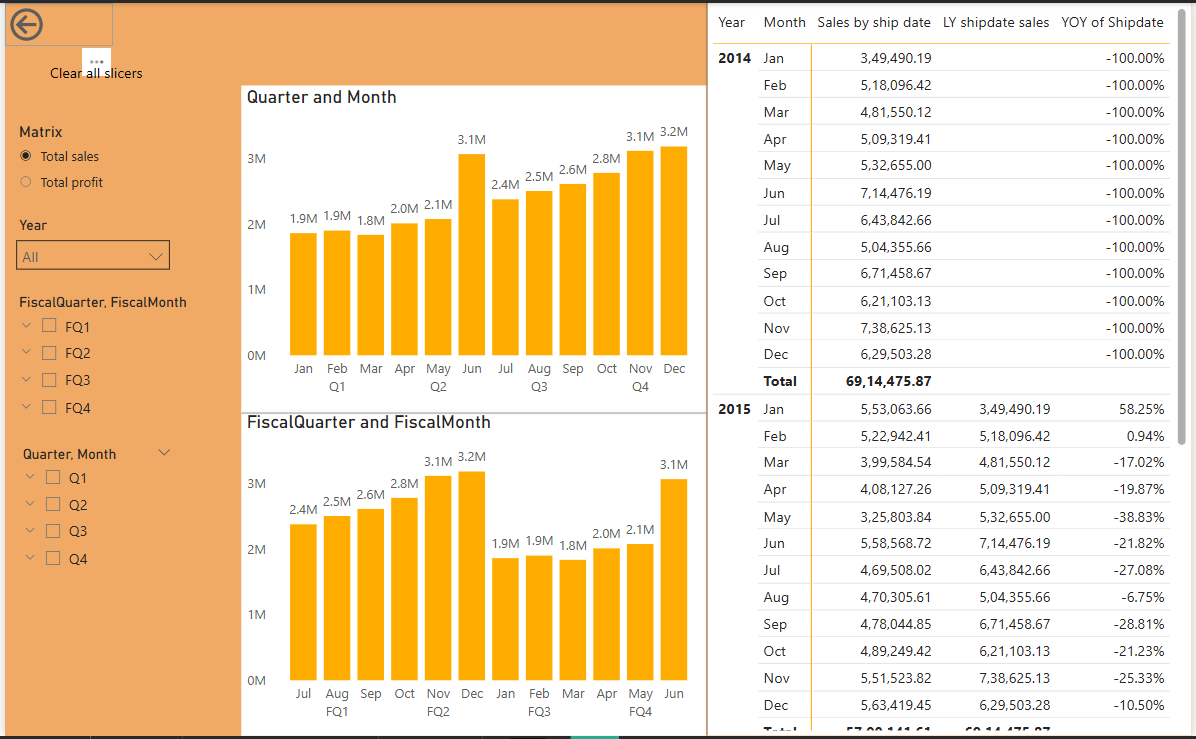

The page's visual inventory and layout, read from the dashboard file:
{"tool":"powerbi","page":{"name":"dates","canvas":[1100,680],"ordinal":3},"visuals":[{"type":"slicer","fields":{"Values":["Matrix.Matrix"]},"box":[0,105.4,169.9,88],"z":0},{"type":"slicer","fields":{"Values":["Calendar.FiscalYear Hierarchy.FiscalQuarter","Calendar.FiscalYear Hierarchy.FiscalMonth"]},"box":[0,265.3,219.5,140.1],"z":1000},{"type":"slicer","fields":{"Values":["Calendar.Year Hierarchy.Quarter","Calendar.Year Hierarchy.Month"]},"box":[3.7,405.4,162.4,140.1],"z":2000},{"type":"slicer","fields":{"Values":["Calendar.Year"]},"box":[0,193.4,162.4,68.2],"z":3000},{"type":"columnChart","title":"FiscalQuarter and FiscalMonth","fields":{"Category":["Calendar.FiscalYear Hierarchy.FiscalQuarter","Calendar.FiscalYear Hierarchy.FiscalMonth"],"Y":["KPI.swithch"]},"box":[219.5,378.2,431.5,301.3],"z":4000},{"type":"columnChart","title":" Quarter and Month","fields":{"Category":["Calendar.Year Hierarchy.Quarter","Calendar.Year Hierarchy.Month"],"Y":["KPI.swithch"]},"box":[219.5,76.9,431.5,301.3],"z":5000},{"type":"actionButton","box":[0,0,100,40],"z":6000},{"type":"pivotTable","fields":{"Rows":["Calendar.Year","Calendar.Month"],"Values":["KPI.Sales by ship date","Time intelligance.LY shipdate sales","Time intelligance.YOY of Shipdate"]},"box":[650.9,0,448.8,679.5],"z":7000},{"type":"actionButton","box":[0,39.6,169.2,50.3],"z":8000},{"type":"shape","box":[219.5,370.7,431.5,18.6],"z":8001},{"type":"shape","box":[641,0,19.8,679.5],"z":8002}]}

Visuals, with their boxes on the page's 1100x680 design canvas (x1, y1, x2, y2). These are canvas units, not pixel positions in the 1196x739 screenshot, which may show the page scaled, cropped or inside an application window:
slicer - Matrix.Matrix: [left=0, top=105, right=170, bottom=193]
slicer - Calendar.FiscalYear Hierarchy.FiscalQuarter x Calendar.FiscalYear Hierarchy.FiscalMonth: [left=0, top=265, right=220, bottom=405]
slicer - Calendar.Year Hierarchy.Quarter x Calendar.Year Hierarchy.Month: [left=4, top=405, right=166, bottom=546]
slicer - Calendar.Year: [left=0, top=193, right=162, bottom=262]
"FiscalQuarter and FiscalMonth" columnChart: [left=220, top=378, right=651, bottom=680]
" Quarter and Month" columnChart: [left=220, top=77, right=651, bottom=378]
actionButton: [left=0, top=0, right=100, bottom=40]
pivotTable - Calendar.Year x Calendar.Month: [left=651, top=0, right=1100, bottom=680]
actionButton: [left=0, top=40, right=169, bottom=90]
shape: [left=220, top=371, right=651, bottom=389]
shape: [left=641, top=0, right=661, bottom=680]
